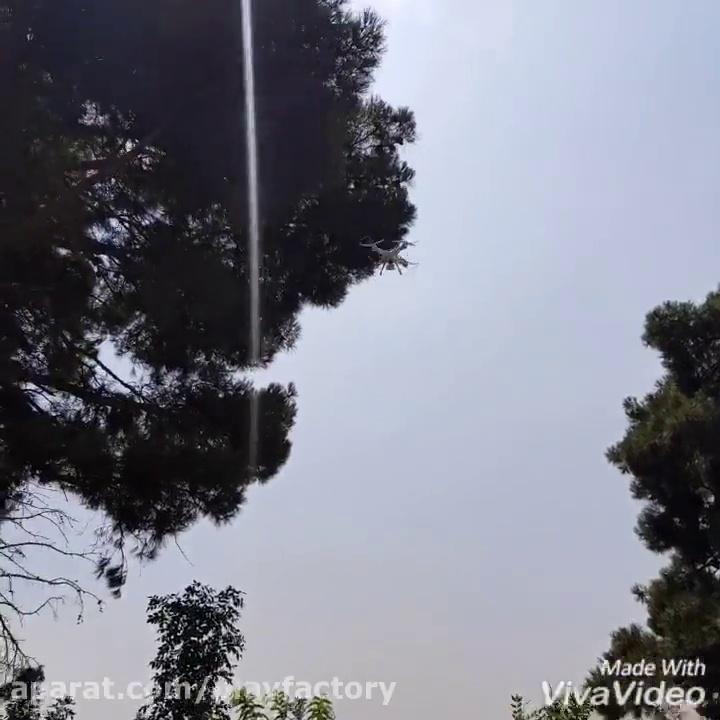drone: (360, 231, 423, 277)
